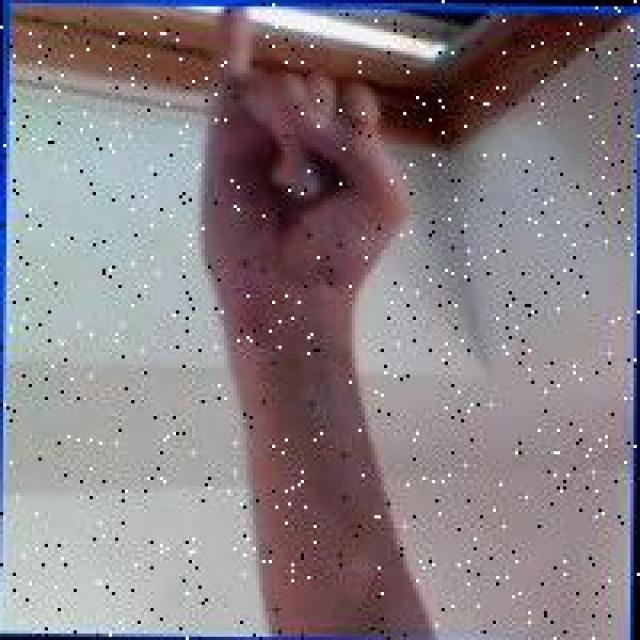I: (198, 6, 413, 336)
